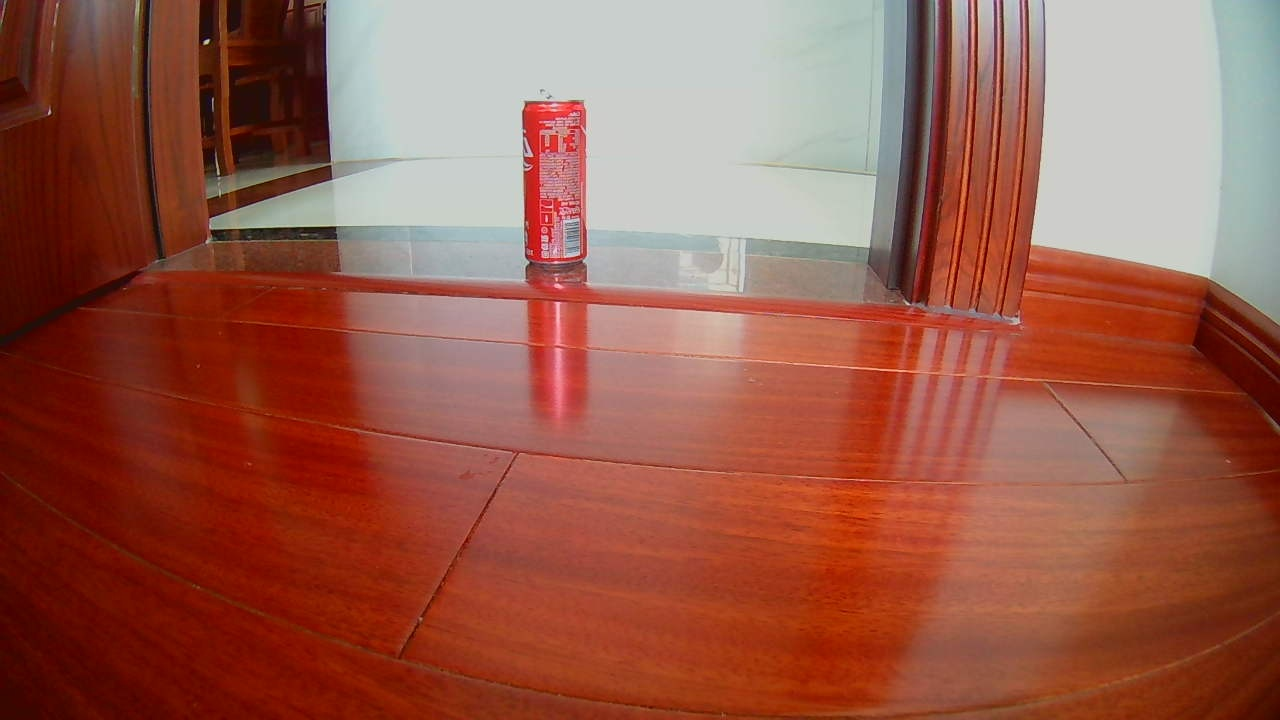cola: (529, 101, 587, 258)
